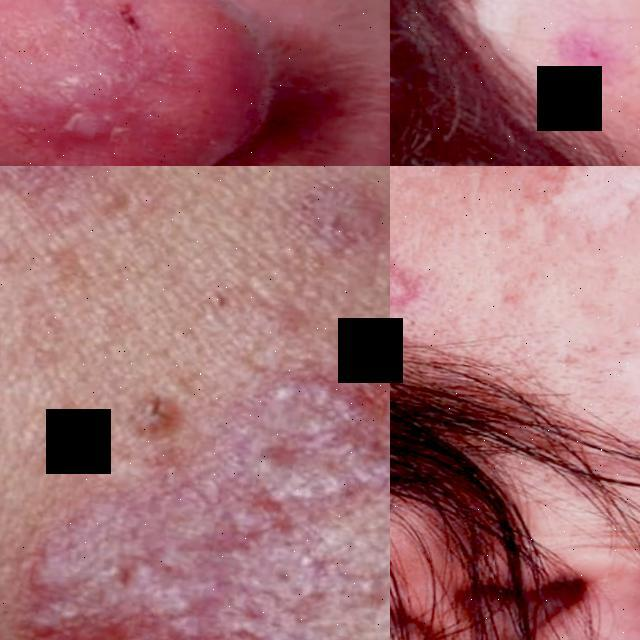lupus-detected: (3, 326, 390, 640), (0, 0, 238, 166), (0, 166, 175, 356), (390, 206, 508, 446), (252, 166, 390, 340), (498, 0, 640, 166)
